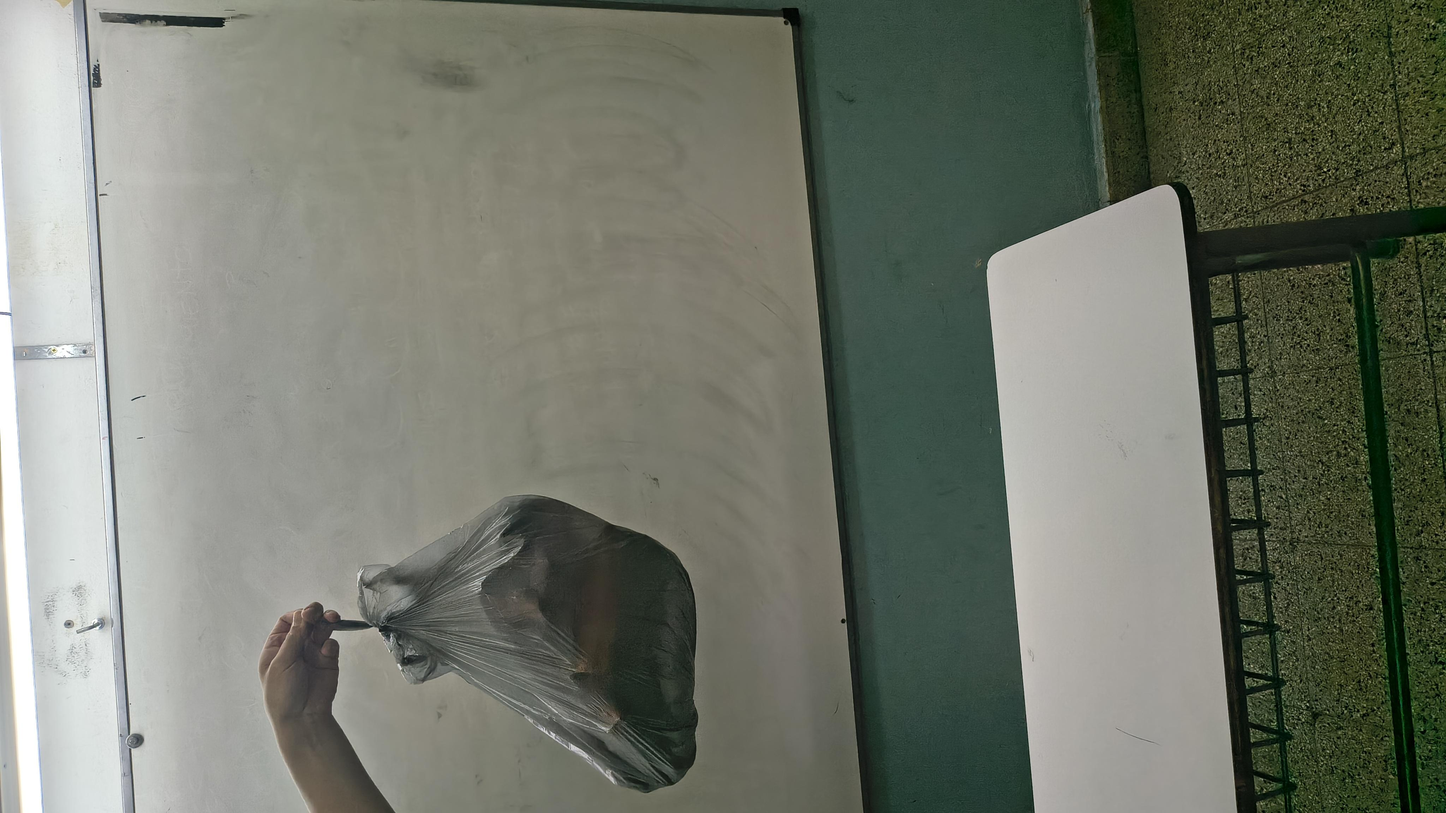Garbage: (19, 183, 615, 409)
